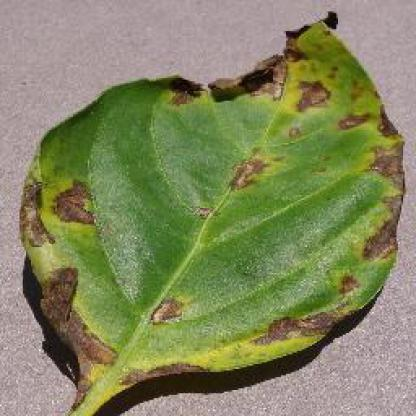bad leaf: (15, 15, 415, 416)
